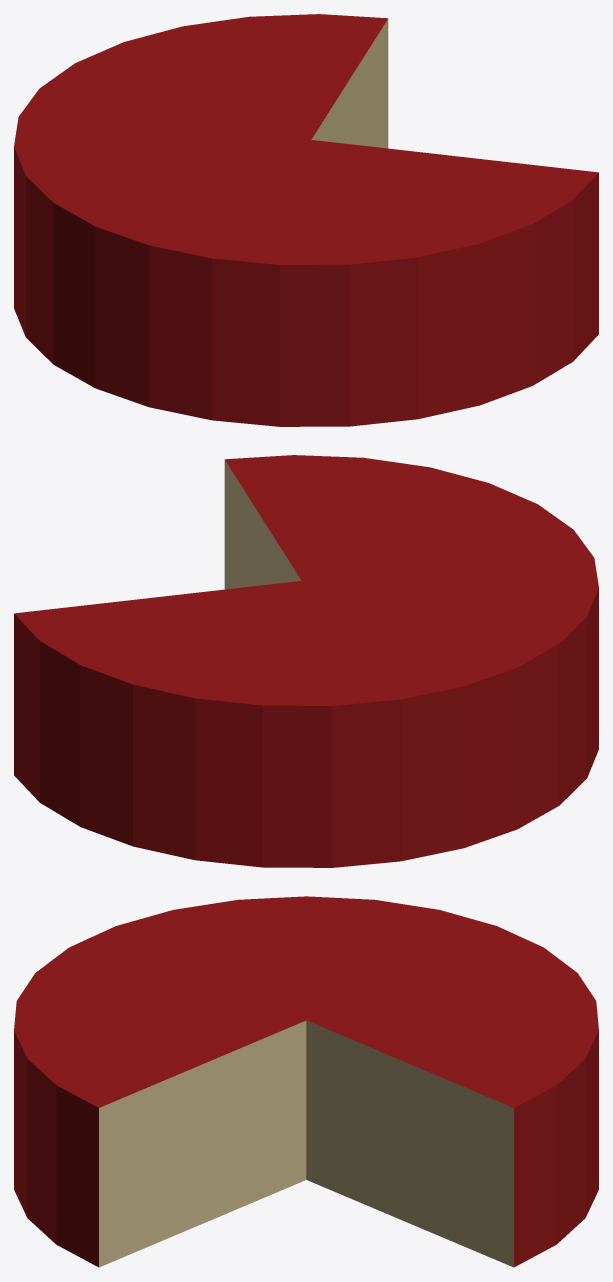
Rendered from item_item323.glb.
The picture shows the model from 3 angles, top to bottom: view 1: azimuth 30°, elevation 25°; view 2: azimuth 150°, elevation 25°; view 3: azimuth 270°, elevation 25°; orthographic projection.
Parts seen in each view (by area): view 1: props_item323; view 2: props_item323; view 3: props_item323.
Boxes of the visible parts, x1,y1,x2,y2 form: props_item323: [14, 14, 598, 426]; props_item323: [14, 455, 598, 867]; props_item323: [14, 896, 598, 1267].
Bounding box in the file's own units: 0.8536 × 0.3 × 0.9969.
